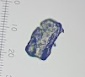microplastic: (23, 17, 65, 61)
